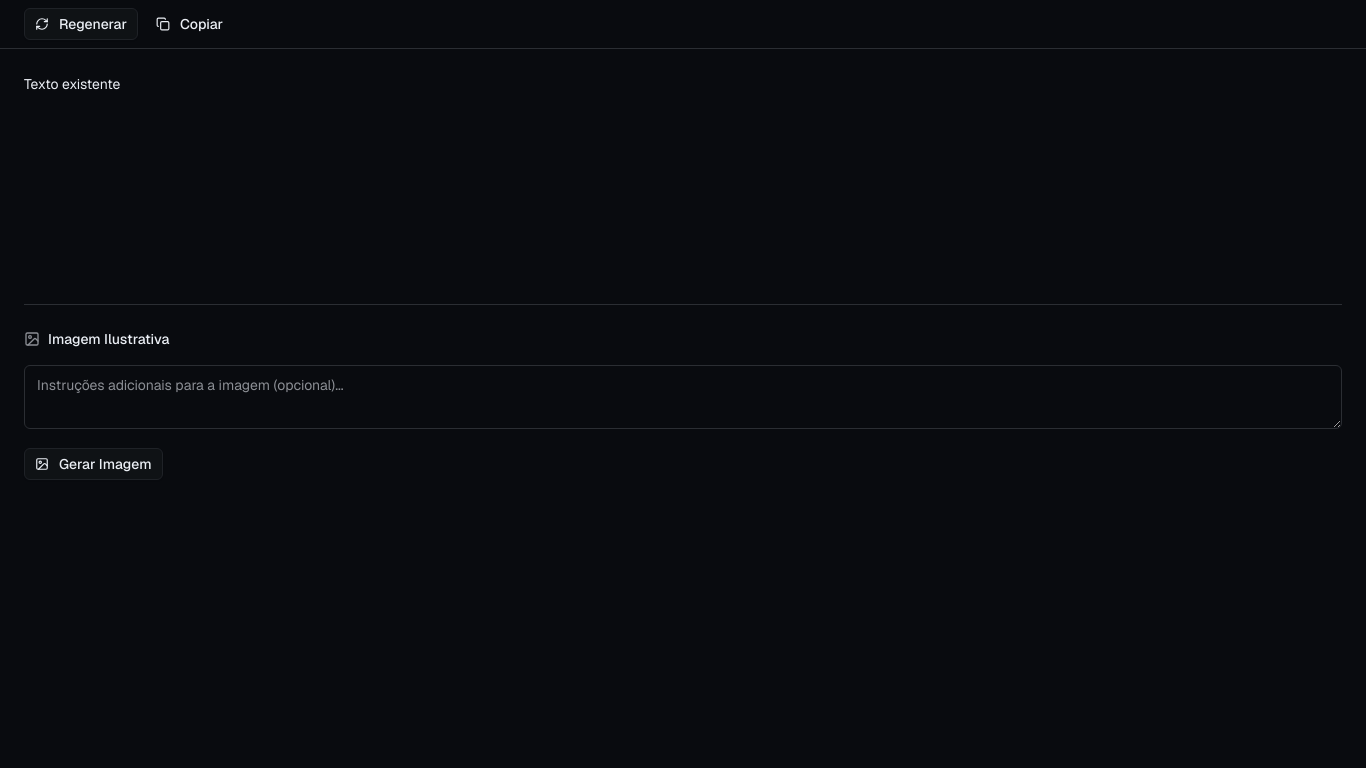
Test: NewsSocialPhase › shows additionalContext textarea when regenerate is clicked
The image size is (1366, 768).
Click the button with test id "regenerate-social-button". click: (81, 24)
box: [24,8,138,40]
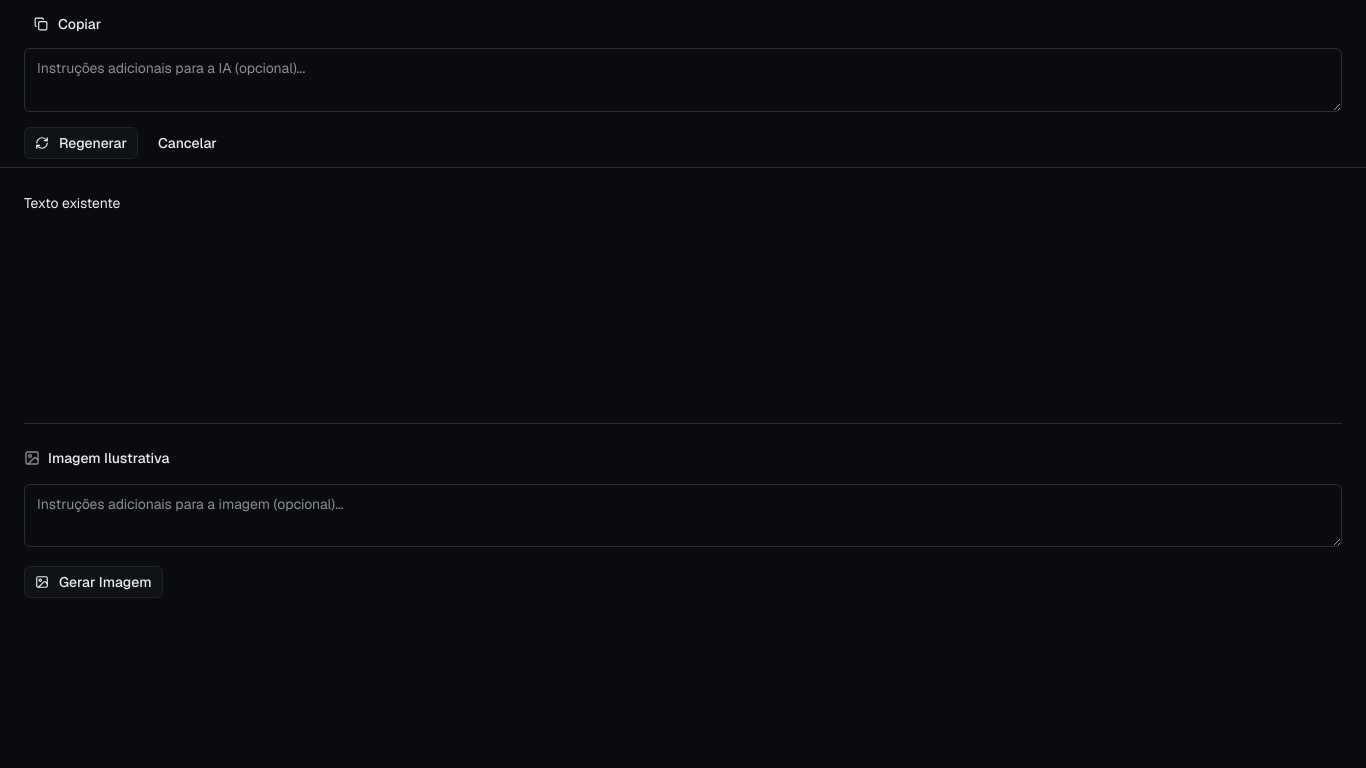
Expected: the button "Regenerar" is shown, [24,126,138,158]
Result: the text box with test id "additional-context-input" is shown at [24,48,1342,112]
Result: the button "Cancelar" is shown at [146,126,229,158]
